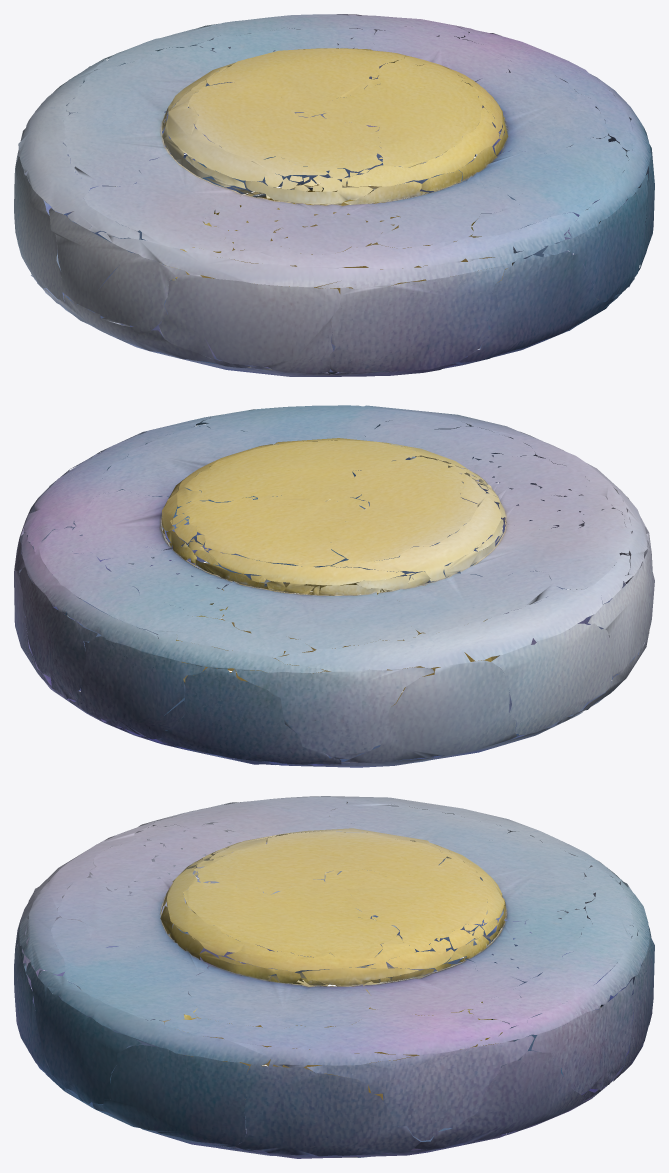
Rendered from Pastel Display Podium.glb.
3 renders of one model, top to bottom at view 1: azimuth 30°, elevation 25°; view 2: azimuth 150°, elevation 25°; view 3: azimuth 270°, elevation 25°, orthographic.
Visible parts, largest first — view 1: texture_mapping; view 2: texture_mapping; view 3: texture_mapping.
Boxes of the visible parts, box(x1,y1,x2,y2) form: texture_mapping: box(14, 14, 654, 376); texture_mapping: box(14, 405, 654, 767); texture_mapping: box(14, 796, 654, 1158).
Size of the model in its own units: 1 by 0.3076 by 1.
Materials: 1 (1 with a texture image).
